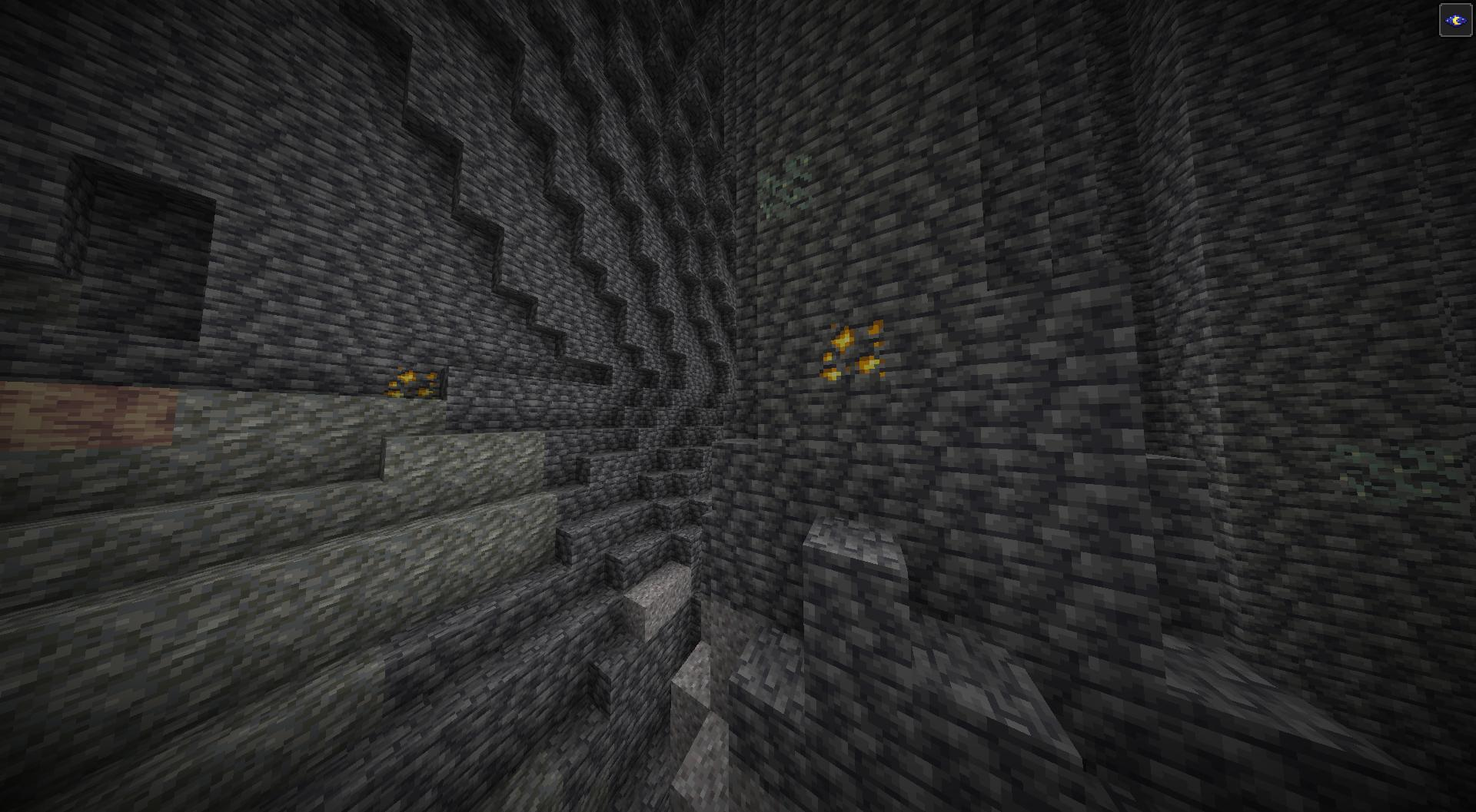gold ore: (815, 317, 891, 386), (384, 362, 449, 406)
